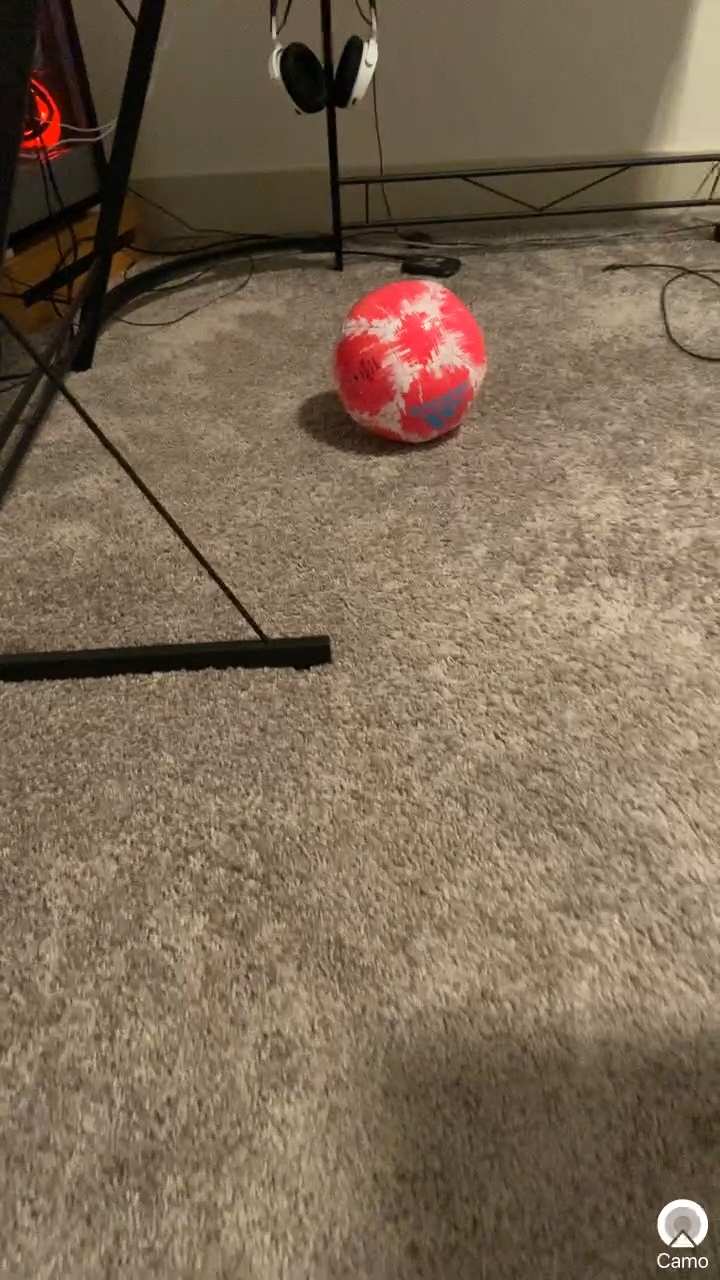Soccer_Ball: (328, 276, 509, 482)
